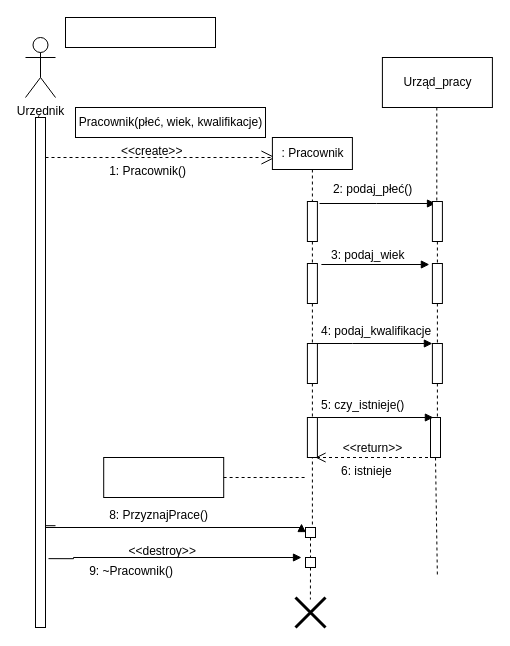
The diagram is 510 pixels wide and 646 high, and some of its shapes have lost their labels. Each missing label, with the centre of its shape:
Praca została przydzielona: the point at 163,477
Urząd pracy: the point at 140,32
